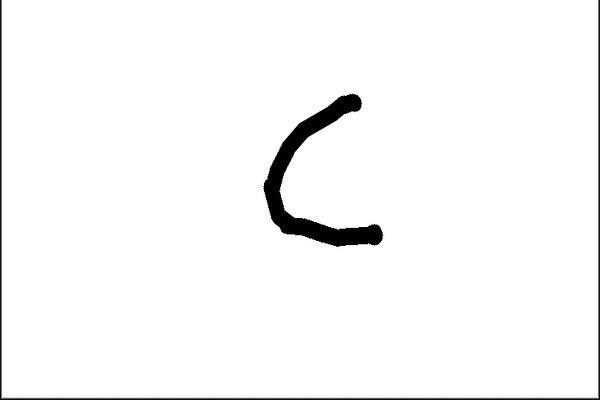C: (260, 88, 389, 248)
